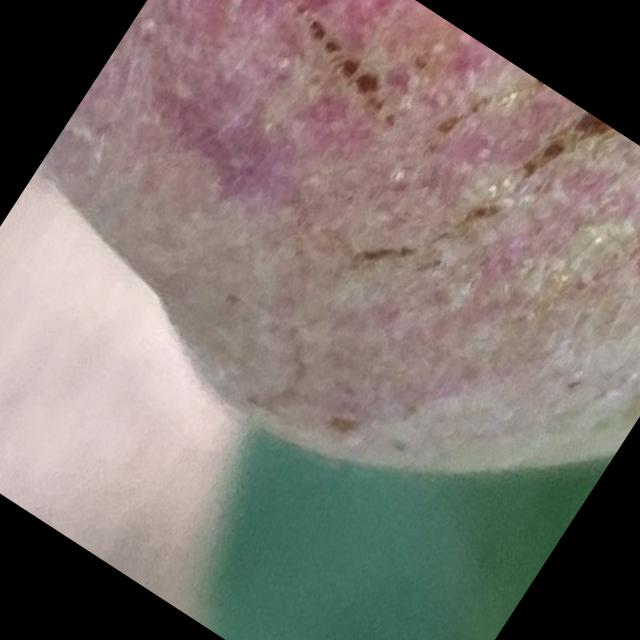Apples: (0, 0, 639, 597)
